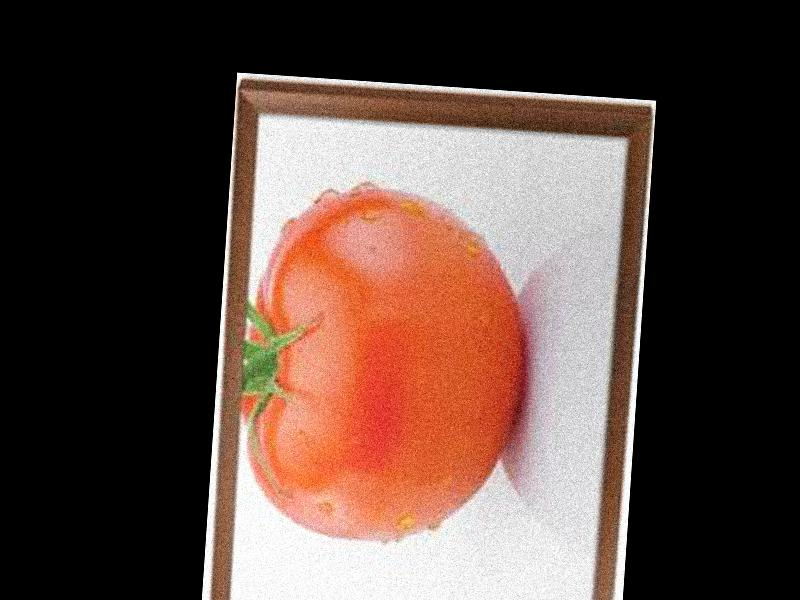Tomato: (230, 179, 535, 549)
